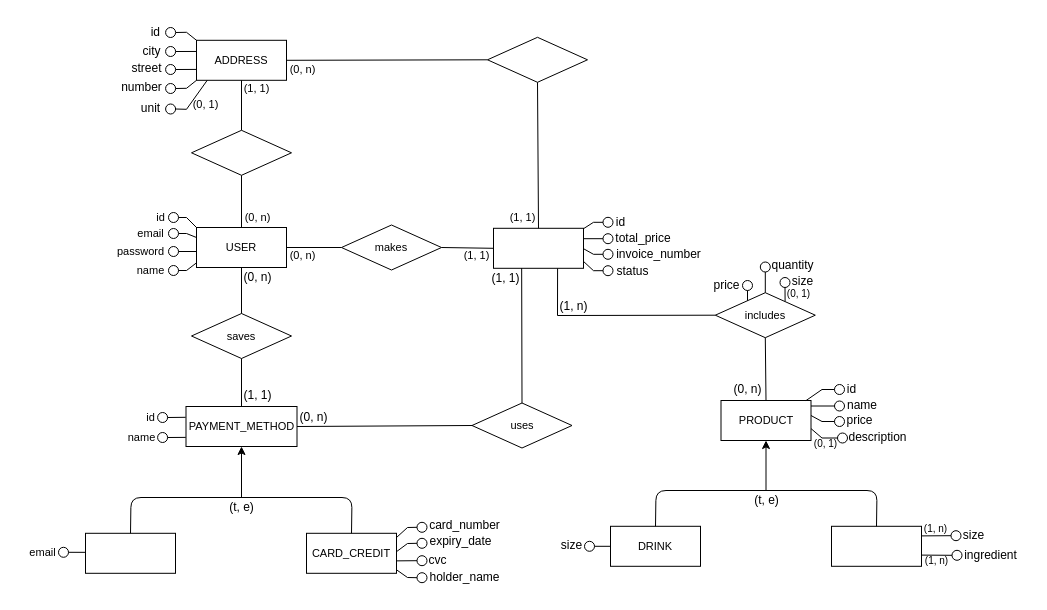
The diagram is 1047 pixels wide and 610 high, and some of its shapes have lost their labels. Here are the shapes that lost their labels. From the top down, the centre of each, then its label:
the point at 537,59: ships_to
the point at 241,152: has
the point at 538,247: ORDER
the point at 130,552: PAYPAL
the point at 876,545: PIZZA
